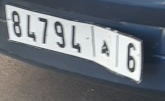4: (69, 22, 83, 54), (25, 13, 37, 43)
6: (123, 40, 138, 74)
7: (37, 15, 48, 45)
8: (10, 9, 23, 40)
9: (54, 21, 66, 51)
h: (98, 35, 112, 58)
